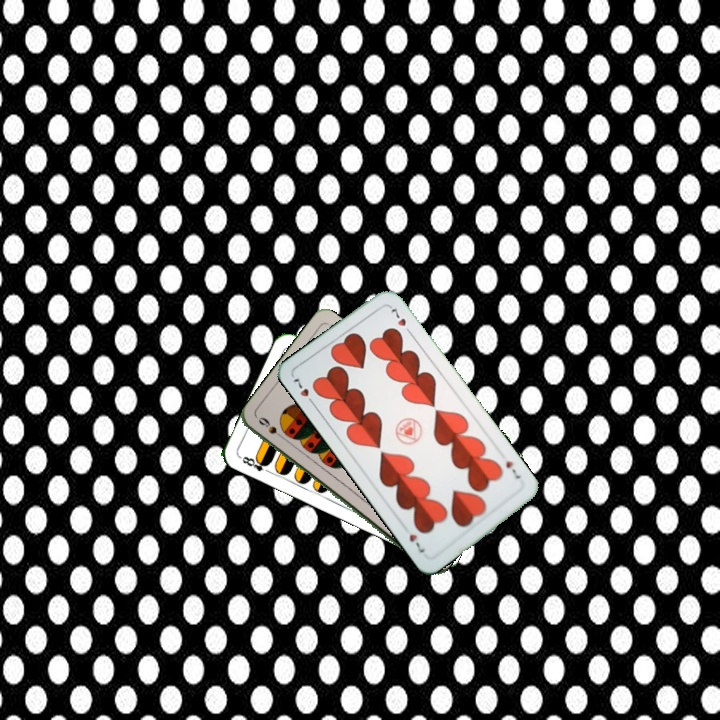E8: (236, 452, 274, 476)
H7: (289, 373, 317, 408), (502, 457, 523, 481)
S9: (254, 413, 288, 443)
